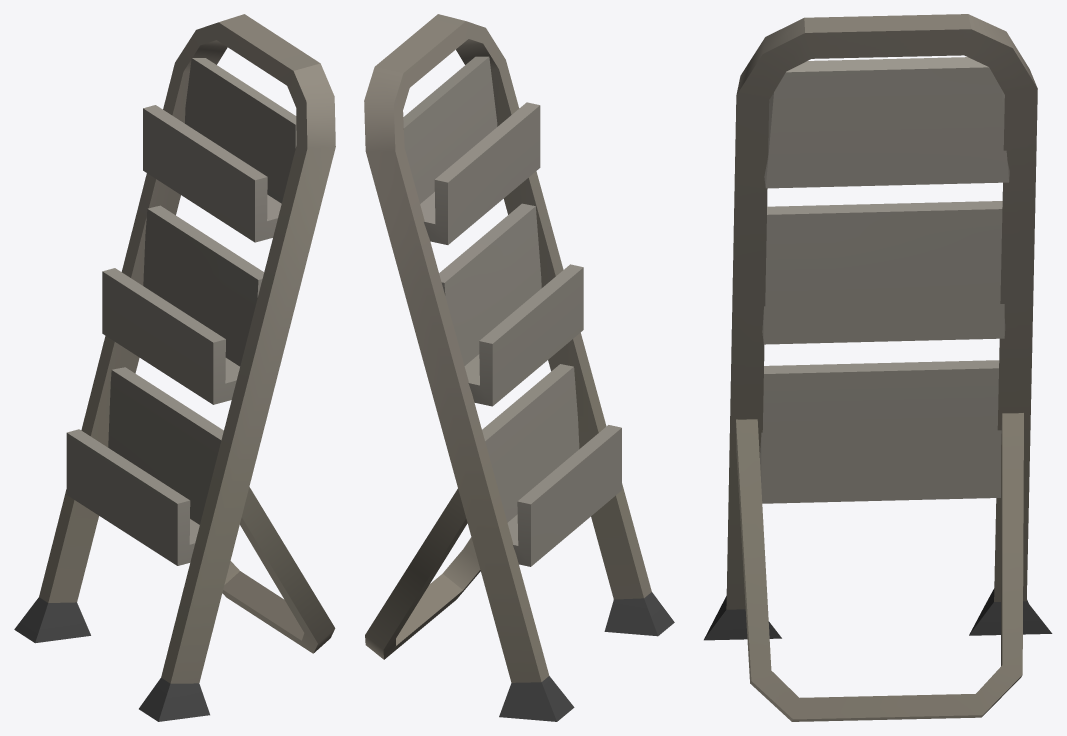
Rendered from NewspaperH.fbx.
The picture shows the model from 3 angles, left to right: view 1: azimuth 30°, elevation 25°; view 2: azimuth 150°, elevation 25°; view 3: azimuth 270°, elevation 25°; orthographic projection. The views are drawn at different scales.
Parts seen in each view (by area): view 1: NewspaperH; view 2: NewspaperH; view 3: NewspaperH.
Part boxes in pixels (box(x1,y1,x2,y2)): NewspaperH: box(14, 14, 335, 721); NewspaperH: box(364, 14, 674, 721); NewspaperH: box(704, 14, 1052, 721).
Bounding box in the file's own units: 48.72 × 125 × 56.73.
